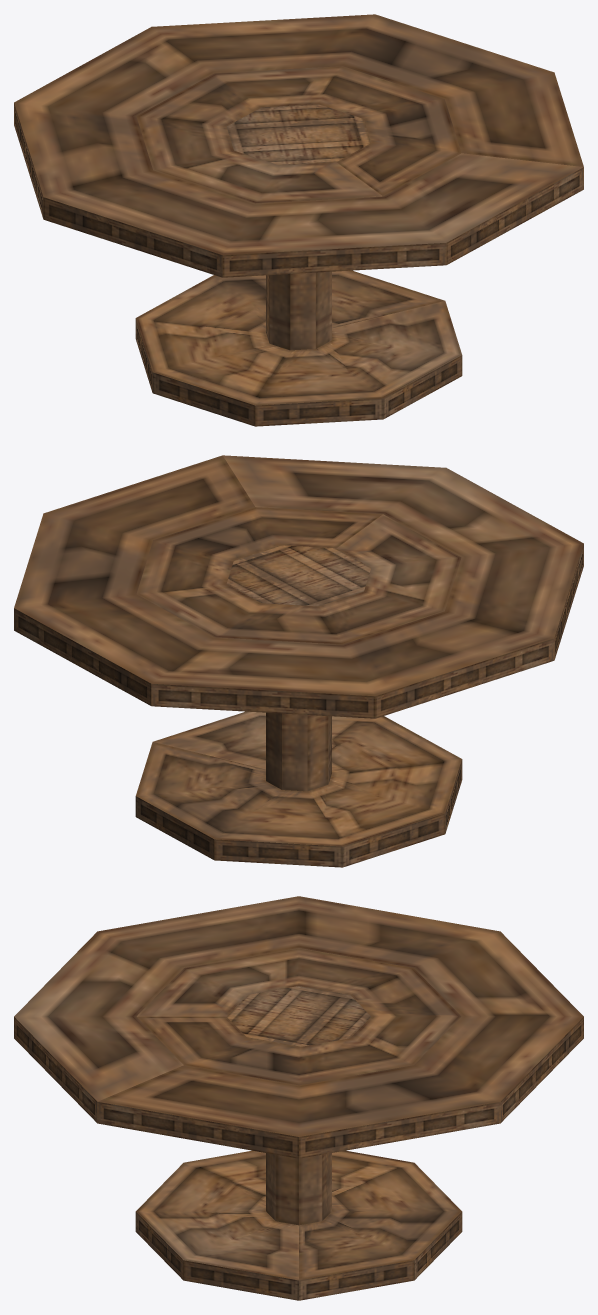
File: table.fbx
The picture shows the model from 3 angles, top to bottom: view 1: azimuth 30°, elevation 25°; view 2: azimuth 150°, elevation 25°; view 3: azimuth 270°, elevation 25°; orthographic projection. The views are drawn at different scales.
Visible parts, largest first — view 1: table; view 2: table; view 3: table.
Part boxes in pixels (<box>): table: <box>14,14,583,426</box>; table: <box>14,455,583,867</box>; table: <box>14,896,583,1300</box>.
Size of the model in its own units: 260 by 108 by 260.
